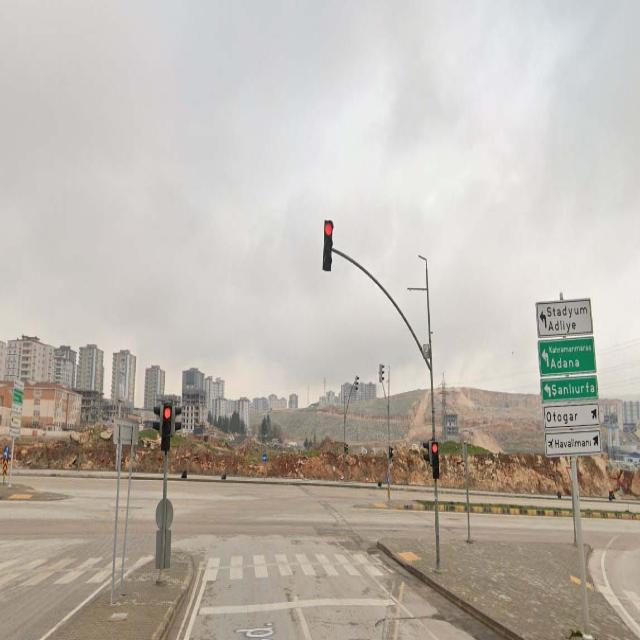kirmizi: (162, 403, 171, 451), (325, 220, 332, 272), (432, 442, 438, 480)
